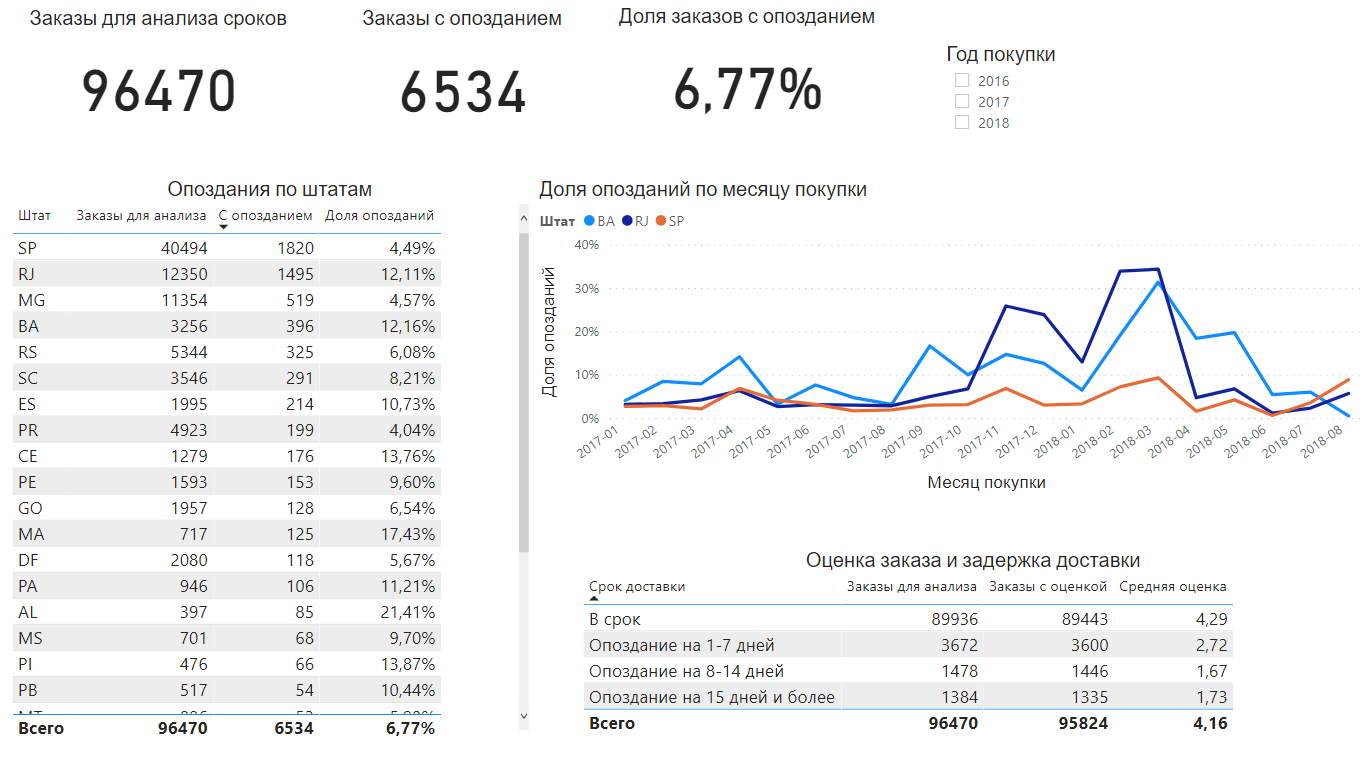

What the dashboard file says about the page in this screenshot:
{"tool":"powerbi","page":{"name":"Доставка и отзывы","canvas":[1280,720],"ordinal":2},"visuals":[{"type":"card","title":"Заказы для анализа сроков","fields":{"Values":["Orders.Delivered Orders With Dates"]},"box":[9.5,10.7,280.7,121.3],"z":0},{"type":"card","title":"Доля заказов с опозданием","fields":{"Values":["Orders.Late Order Rate"]},"box":[552,9.5,280.7,121.3],"z":1000},{"type":"card","title":"Заказы с опозданием","fields":{"Values":["Orders.Late Orders"]},"box":[289.1,10.7,280.7,122.5],"z":2000},{"type":"tableEx","title":"Опоздания по штатам","fields":{"Values":["Orders.customer_state","Orders.Delivered Orders With Dates","Orders.Late Orders","Orders.Late Order Rate"]},"box":[9.5,168.9,486.5,523.4],"z":3000},{"type":"lineChart","title":"Доля опозданий по месяцу покупки","fields":{"Category":["Calendar.YearMonth"],"Y":["Orders.Late Order Rate"],"Series":["Orders.customer_state"]},"box":[496.1,168.9,769.7,293.8],"z":4000},{"type":"tableEx","title":"Оценка заказа и задержка доставки","fields":{"Values":["Orders.Delivery Group","Orders.Delivered Orders With Dates","Orders.Orders With Score","Orders.Avg Review Score"]},"box":[535.3,510.3,730.4,182],"z":5000},{"type":"slicer","title":"Год покупки","fields":{"Values":["Calendar.Year"]},"box":[870.8,44,189.1,86.8],"z":6000}]}

Visuals, with their boxes in screenshot pixels (x1, y1, x2, y2), scaled from the page's 1280x720 canvas onto the 1368x775 screenshot:
"Заказы для анализа сроков" card: <box>10,12,310,142</box>
"Доля заказов с опозданием" card: <box>590,10,890,141</box>
"Заказы с опозданием" card: <box>309,12,609,143</box>
"Опоздания по штатам" tableEx: <box>10,182,530,745</box>
"Доля опозданий по месяцу покупки" lineChart: <box>530,182,1353,498</box>
"Оценка заказа и задержка доставки" tableEx: <box>572,549,1353,745</box>
"Год покупки" slicer: <box>931,47,1133,141</box>
